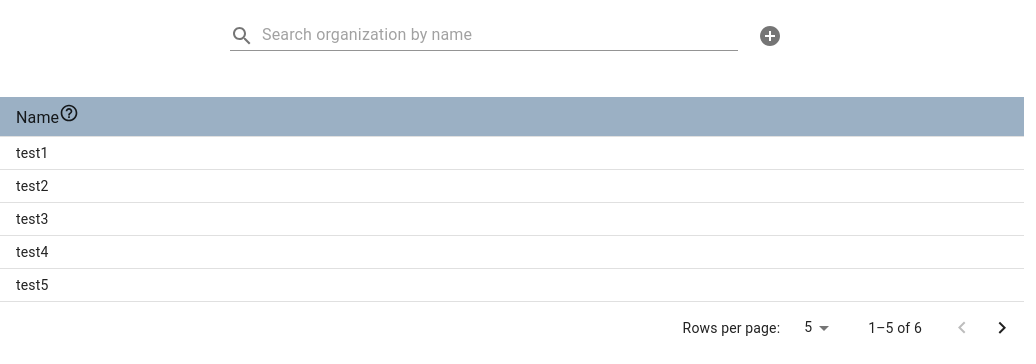
Scenario: Entity table › should allow the user to go to the next page
Click the button named "next page": (1002, 328) [982,308,1022,348]
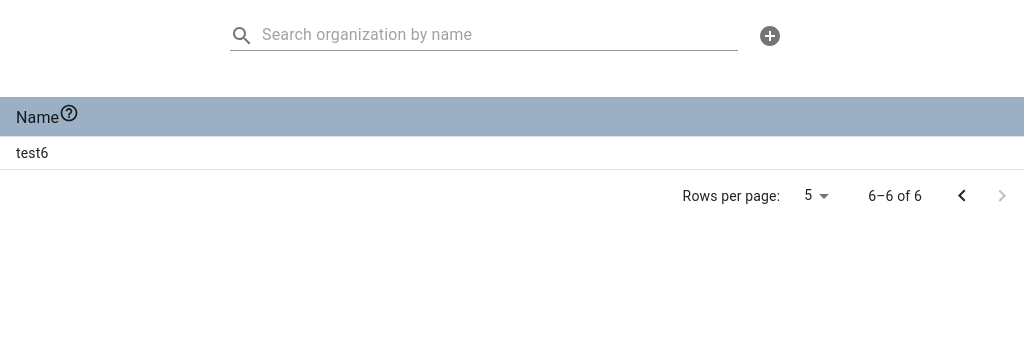
Check: the text "test1" is gone
Check: the text "test2" is gone
Check: the text "test3" is gone
